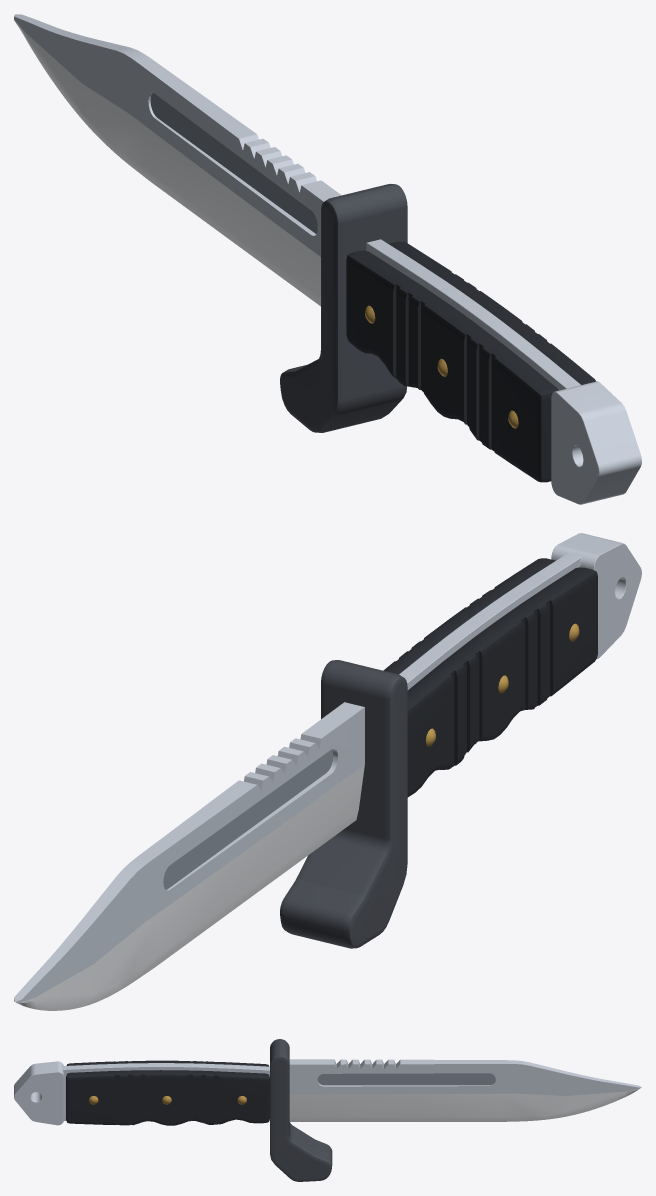
File: w_knife.glb
The picture shows the model from 3 angles, top to bottom: view 1: azimuth 30°, elevation 25°; view 2: azimuth 150°, elevation 25°; view 3: azimuth 270°, elevation 25°; orthographic projection. The views are drawn at different scales.
Parts seen in each view (by area): view 1: scale_wzA, blade_wzB, guard_wzA, blade_wzB.002, tang_wzA, blade_wzB.001; view 2: scale_wzA, guard_wzA, blade_wzB, blade_wzB.002, tang_wzA, blade_wzB.001; view 3: scale_wzA, blade_wzB.002, blade_wzB, guard_wzA, tang_wzA, blade_wzB.001.
Part boxes in pixels (x1,y1,x2,y2): scale_wzA: (346,241,595,482); blade_wzB: (14,14,341,256); guard_wzA: (280,183,407,432); blade_wzB.002: (14,19,320,306); tang_wzA: (366,239,641,504); blade_wzB.001: (150,93,317,233); scale_wzA: (383,558,597,797); guard_wzA: (280,660,407,948); blade_wzB: (14,702,364,1002); blade_wzB.002: (14,765,364,1010); tang_wzA: (399,533,641,690); blade_wzB.001: (163,749,333,889); scale_wzA: (66,1060,269,1125); blade_wzB.002: (289,1089,638,1121); blade_wzB: (289,1059,641,1095); guard_wzA: (270,1039,332,1181); tang_wzA: (14,1061,269,1125); blade_wzB.001: (317,1073,495,1085).
Bounding box in the file's own units: 0.022 × 0.0708 × 0.317.
